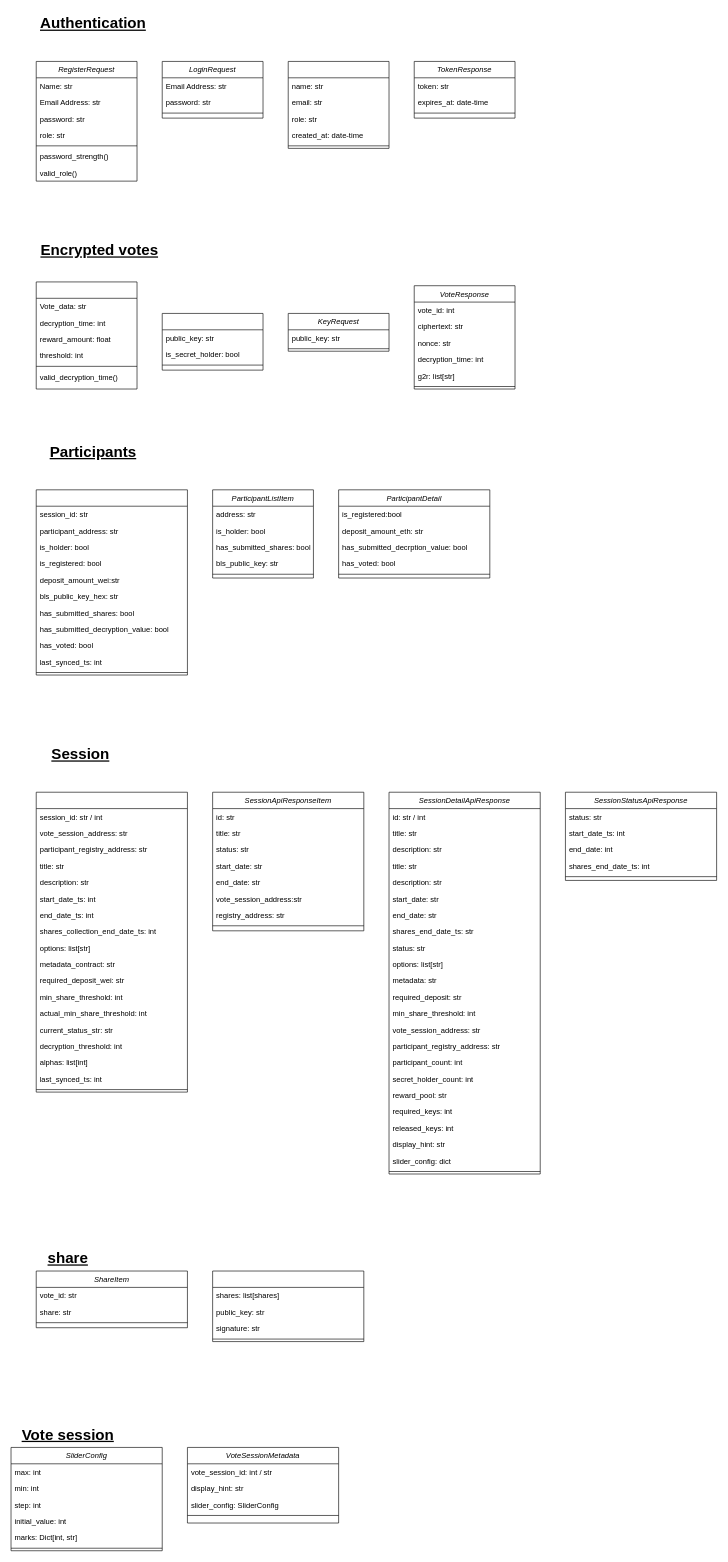
Image size: 728x1562. Some labels were removed from this diagram. The box of each missing label's shape, as (x1, y1, x2, y2) in pixels:
ParticipantCacheModel: (36, 489, 187, 675)
PublicKeyRequest: (162, 313, 263, 370)
SessionCacheModel: (36, 792, 187, 1092)
ShareListSubmitRequest: (212, 1270, 364, 1342)
UserResponse: (288, 61, 389, 148)
VoteSubmitRequest: (36, 281, 137, 389)
